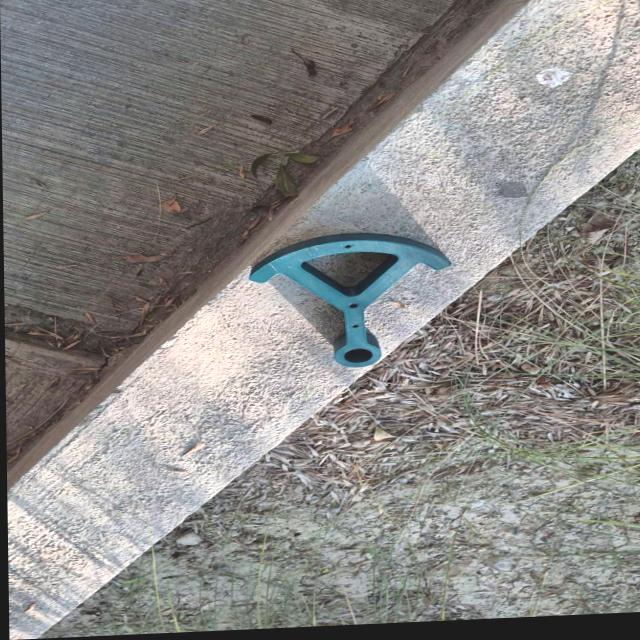haptic: (247, 228, 454, 373)
